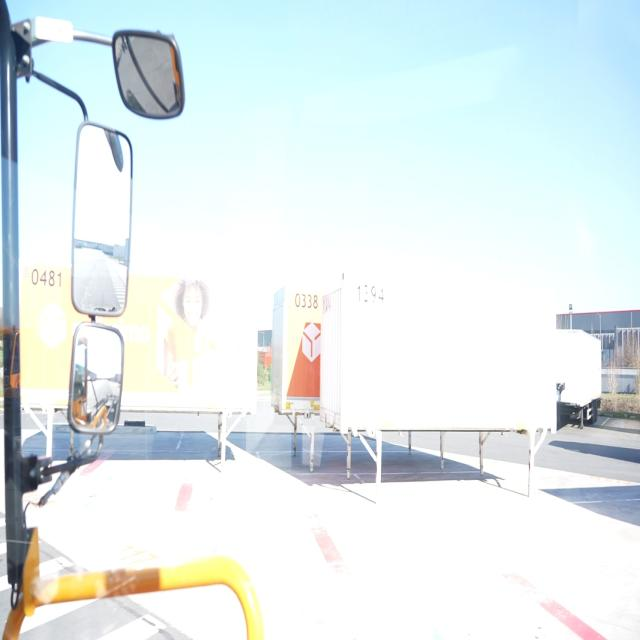Code: (27, 265, 66, 292), (291, 290, 320, 316)
